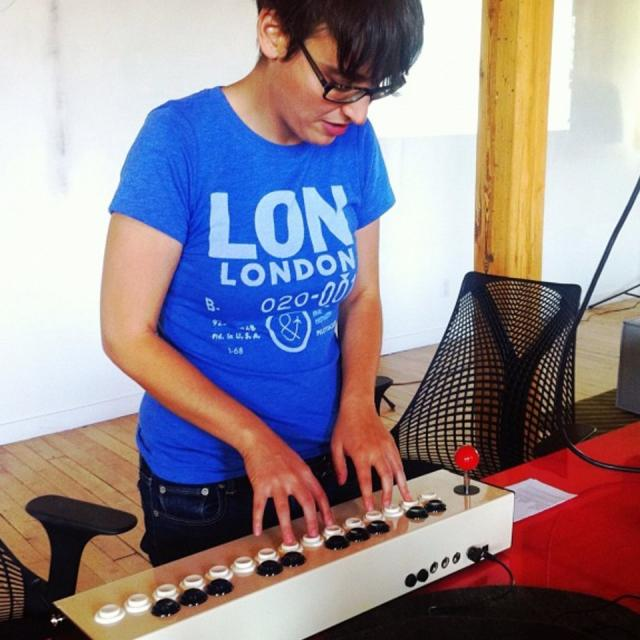Glasses: (301, 31, 411, 112)
